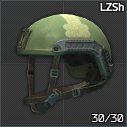LZSh light helmet: (0, 0, 127, 127)
